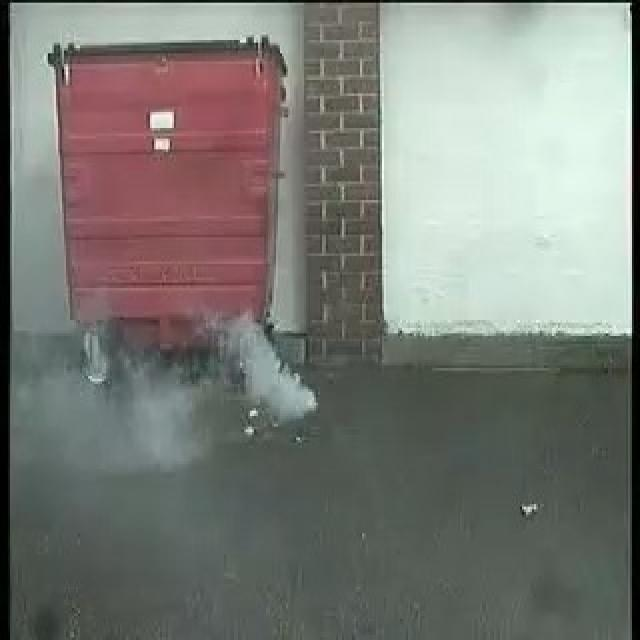smoke: (164, 315, 318, 434)
